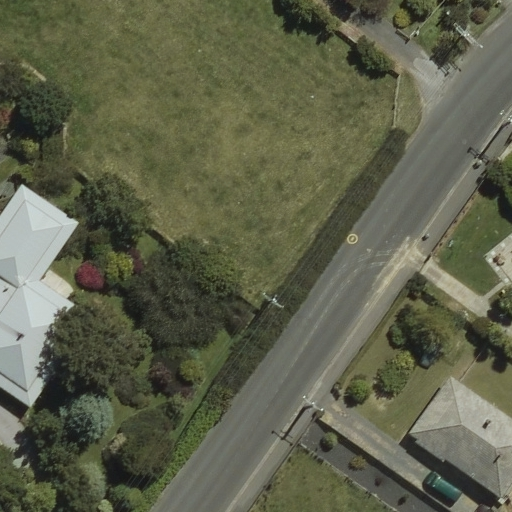DT: (451, 18, 484, 55), (259, 287, 287, 317), (298, 391, 326, 419), (498, 105, 512, 132)
